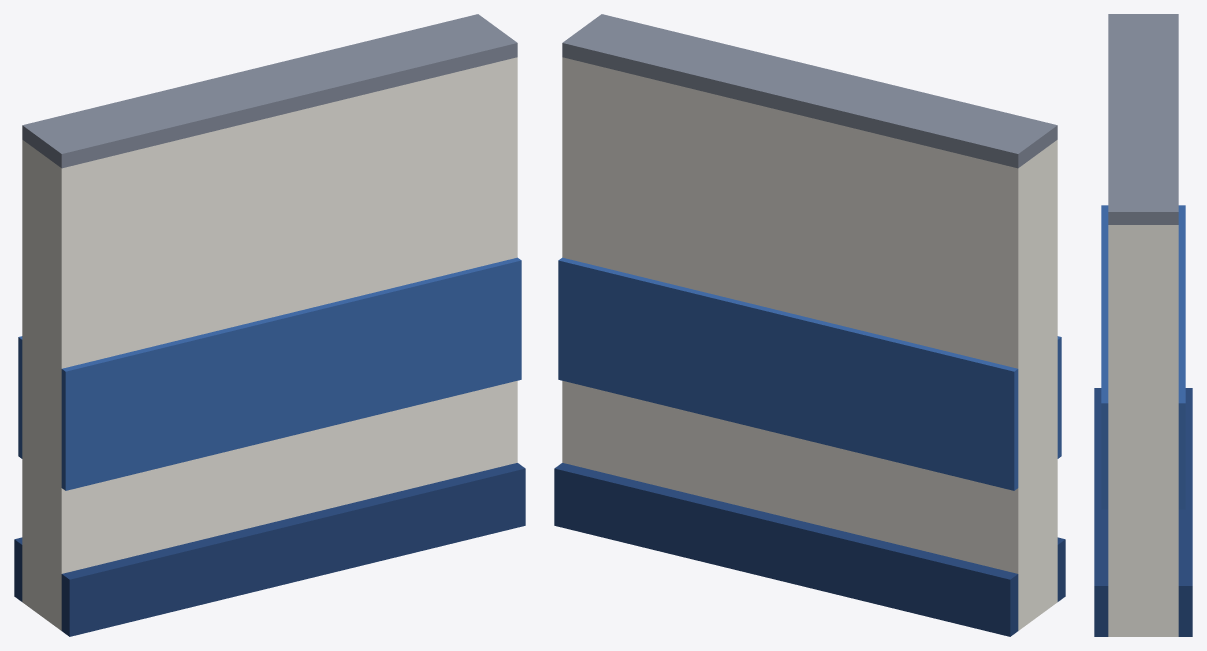
File: partition-full.glb
The picture shows the model from 3 angles, left to right: view 1: azimuth 30°, elevation 25°; view 2: azimuth 150°, elevation 25°; view 3: azimuth 270°, elevation 25°; orthographic projection. The views are drawn at different scales.
Visible parts, largest first — view 1: partition-full; view 2: partition-full; view 3: partition-full.
Boxes of the visible parts, <box> form: partition-full: <box>14,14,525,636</box>; partition-full: <box>554,14,1065,636</box>; partition-full: <box>1094,14,1192,636</box>.
Bounding box in the file's own units: 1 × 1 × 0.21.
Materials: 1 (1 with a texture image).
